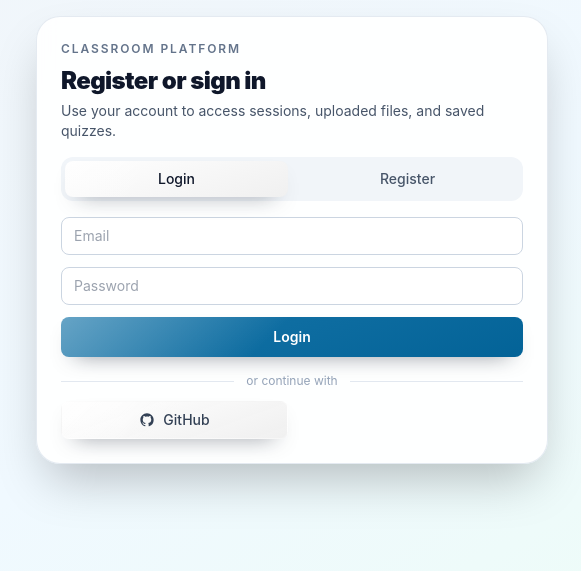
Test: App Component - Authentication Flow › displays an error message when login fails
Step 1. Type "wrong@t.com" into the field with placeholder "Email" → (292, 236), box [61,217,523,255]
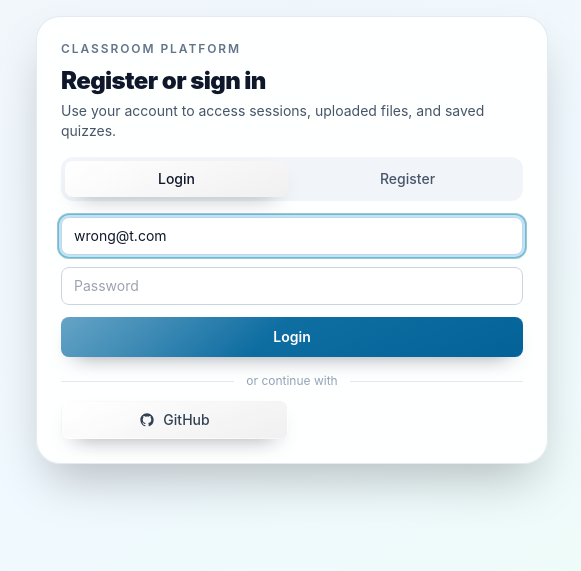
Step 2. Type "wrong" into the password field with placeholder "Password" → (292, 286), box [61,267,523,305]
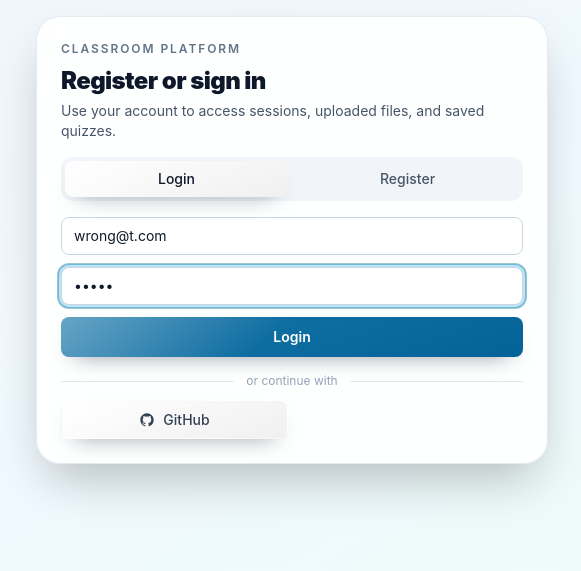
Step 3. Click the 2nd button "Login" → click(292, 337), box [61,317,523,357]
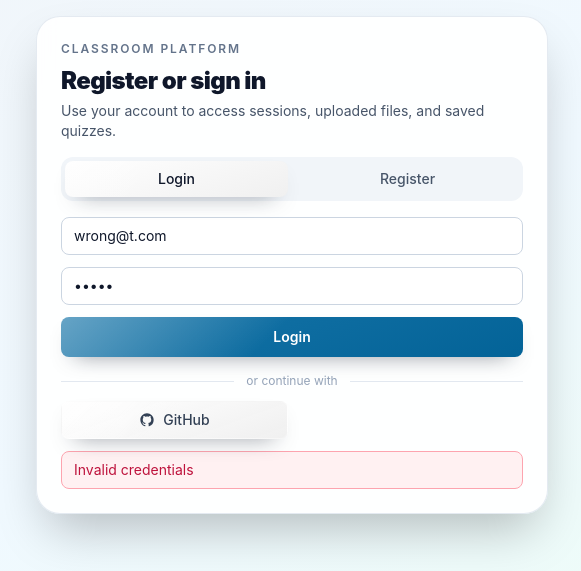
Expected: the text "Invalid credentials" is shown, [61,451,523,489]
